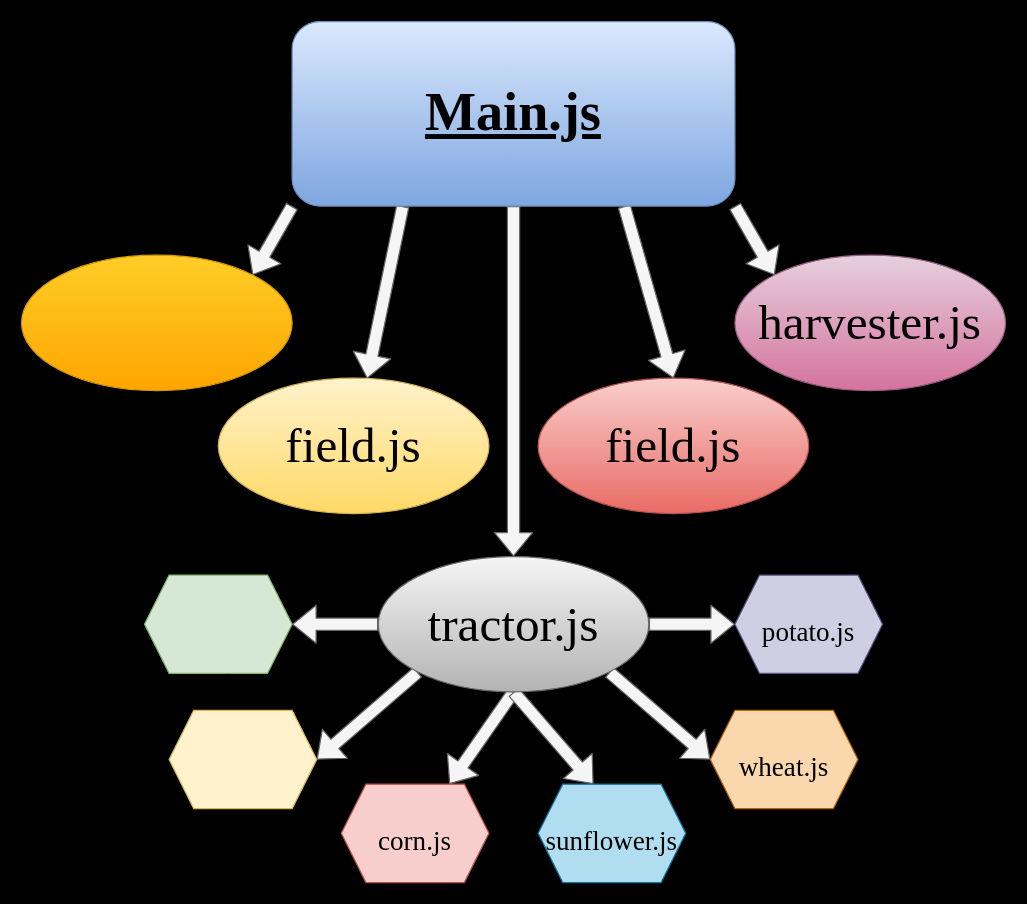
Some shapes in this 1027 by 904 pixel diagram are drawn without their labels. The centre of each missing label's shape, as x and y in pixels:
"asparagus.js" goes at point (242, 759).
"plan.js" goes at point (156, 322).
"soybean.js" goes at point (217, 623).
